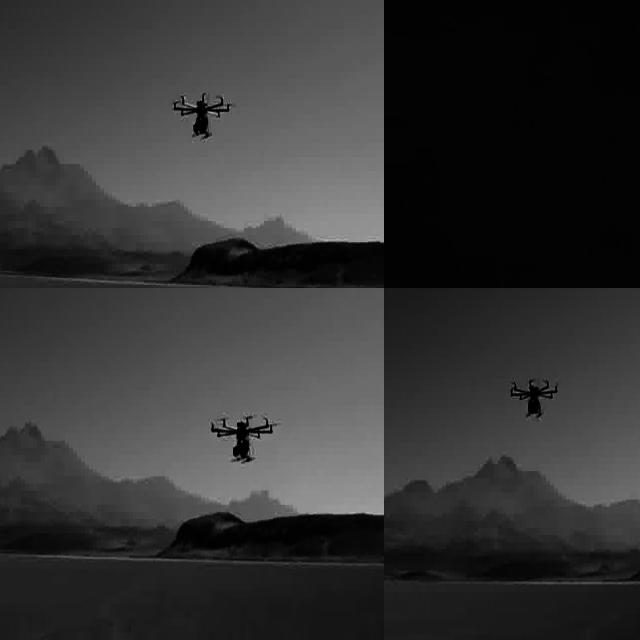drone: (210, 412, 276, 464), (171, 88, 236, 139), (508, 380, 562, 420)
